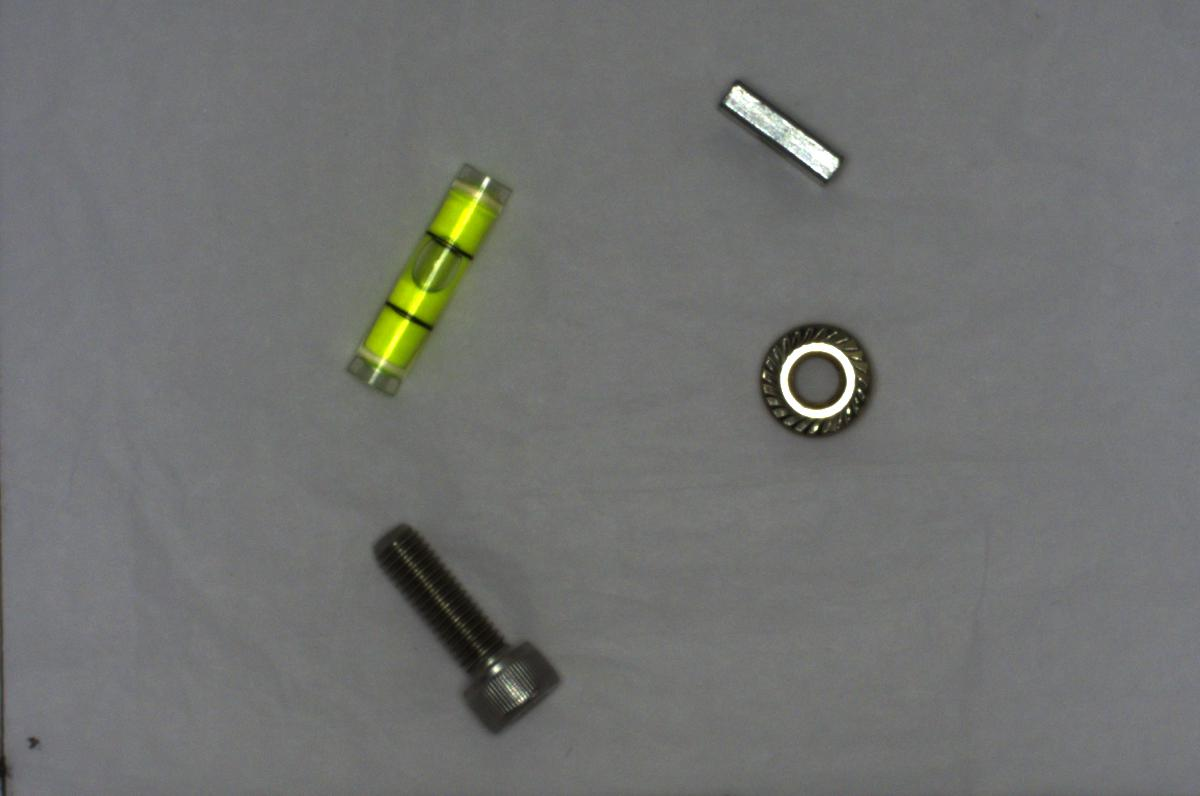Flange nut: (739, 314, 885, 449)
Hexagon screw: (365, 513, 565, 738)
Horizontal bubble: (342, 156, 511, 388)
Rectangular nut: (715, 74, 851, 186)
